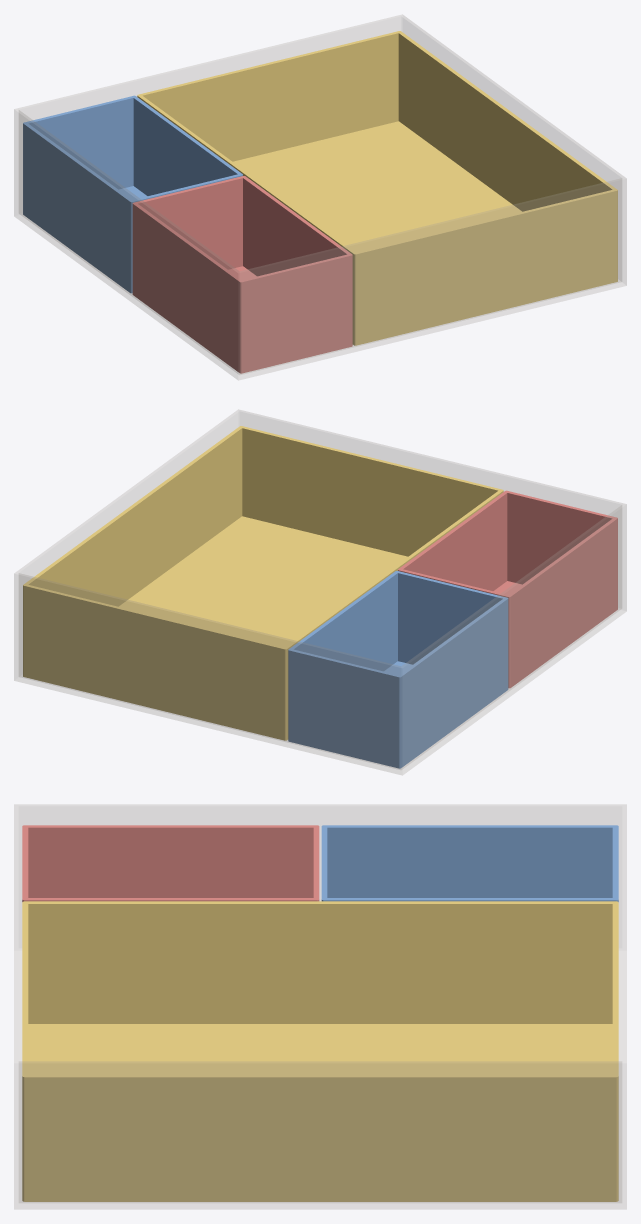
File: organizer.glb
3 renders of one model, top to bottom at view 1: azimuth 30°, elevation 25°; view 2: azimuth 150°, elevation 25°; view 3: azimuth 270°, elevation 25°, orthographic. The views are drawn at different scales.
Parts seen in each view (by area): view 1: Shared Dice and Battle Tokens, Game box (preview only), Red Player Components, Blue Player Components; view 2: Shared Dice and Battle Tokens, Game box (preview only), Blue Player Components, Red Player Components; view 3: Shared Dice and Battle Tokens, Game box (preview only), Red Player Components, Blue Player Components.
Part boxes in pixels (x1,y1,x2,y2): Shared Dice and Battle Tokens: (137, 31, 617, 345); Game box (preview only): (14, 14, 626, 380); Red Player Components: (132, 176, 352, 373); Blue Player Components: (23, 95, 242, 293); Shared Dice and Battle Tokens: (23, 426, 503, 740); Game box (preview only): (14, 409, 626, 775); Blue Player Components: (288, 571, 508, 768); Red Player Components: (398, 490, 617, 688); Shared Dice and Battle Tokens: (22, 901, 618, 1201); Game box (preview only): (14, 804, 626, 1209); Red Player Components: (22, 825, 319, 901); Blue Player Components: (321, 825, 618, 901).
Size of the model in its own units: 0.254 by 0.067 by 0.254.
